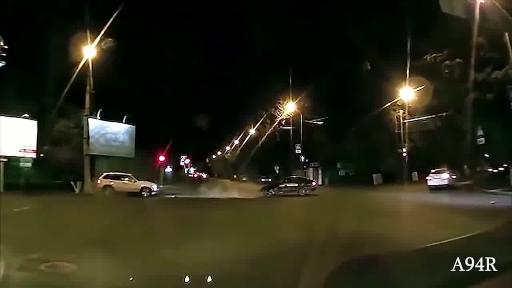Accident-fire-smoke: (71, 82, 327, 235)
